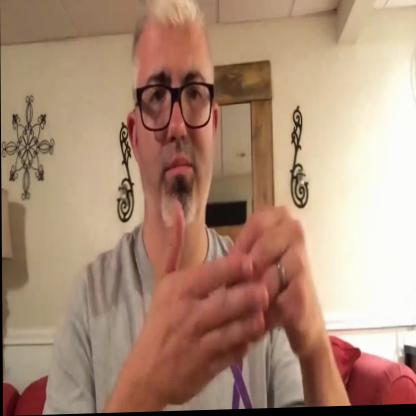Expensive: (124, 187, 321, 400)
